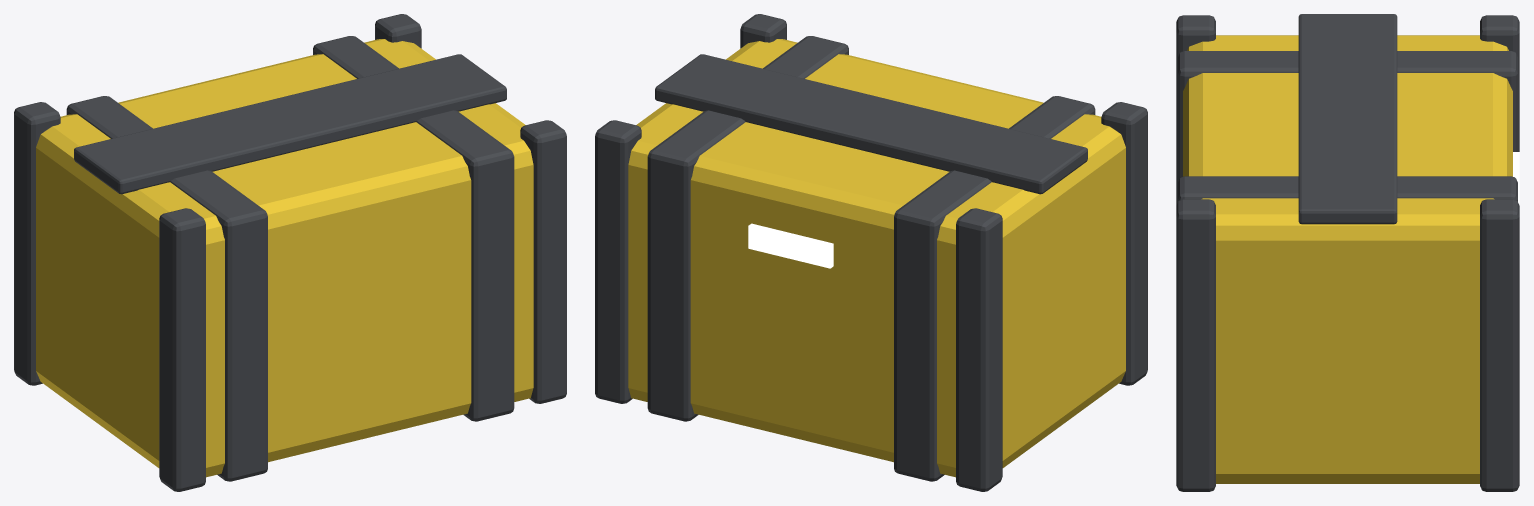
Rendered from hazard_crate.glb.
The picture shows the model from 3 angles, left to right: view 1: azimuth 30°, elevation 25°; view 2: azimuth 150°, elevation 25°; view 3: azimuth 270°, elevation 25°; orthographic projection. The views are drawn at different scales.
Visible parts, largest first — view 1: hazard_crate; view 2: hazard_crate; view 3: hazard_crate.
Part boxes in pixels (x1,y1,x2,y2): hazard_crate: (14, 14, 566, 491); hazard_crate: (595, 14, 1147, 491); hazard_crate: (1176, 14, 1519, 491).
Bounding box in the file's own units: 1.44 × 0.955 × 1.04.
